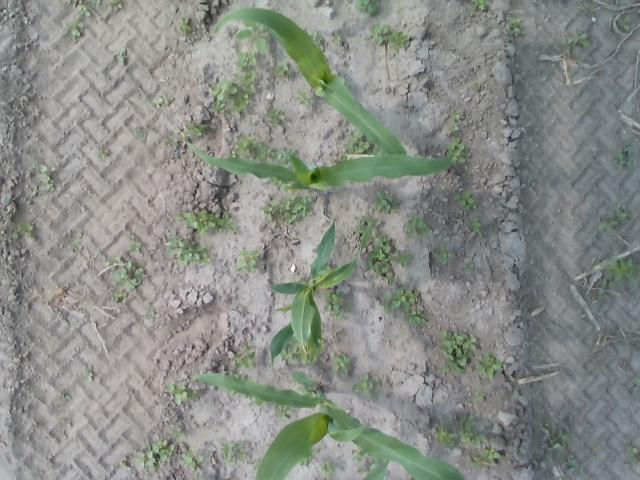Maize: (192, 369, 466, 480), (215, 7, 408, 156), (268, 218, 372, 377), (170, 131, 453, 189)
Weeds: (439, 332, 478, 376), (386, 288, 425, 323), (263, 197, 314, 223), (235, 52, 258, 109), (368, 238, 397, 282), (170, 234, 208, 266), (108, 259, 144, 286), (182, 209, 215, 233), (238, 24, 266, 52), (374, 26, 406, 50), (221, 442, 247, 467), (608, 259, 636, 282), (153, 437, 175, 464), (476, 355, 502, 376), (210, 81, 238, 100), (237, 248, 260, 271), (378, 190, 400, 214), (182, 450, 204, 474), (168, 385, 192, 407), (235, 346, 256, 368), (136, 450, 158, 471), (436, 426, 459, 446), (38, 164, 54, 192), (63, 18, 83, 40), (404, 214, 424, 236), (352, 376, 374, 396), (325, 291, 343, 314), (12, 222, 35, 240), (329, 354, 352, 372), (462, 414, 476, 443), (239, 134, 258, 154), (266, 107, 286, 126), (451, 142, 469, 163), (568, 32, 590, 49), (255, 146, 278, 162), (396, 248, 414, 268), (434, 244, 452, 264), (348, 135, 368, 153), (185, 120, 207, 136), (448, 110, 464, 132), (282, 348, 300, 366), (548, 429, 565, 448), (355, 0, 379, 13), (598, 217, 618, 232), (297, 91, 314, 108), (484, 444, 502, 460), (457, 189, 473, 206), (321, 459, 337, 476), (472, 453, 488, 470), (124, 239, 142, 254), (216, 217, 235, 231), (616, 206, 632, 222), (276, 62, 291, 78), (628, 444, 640, 464), (471, 215, 483, 234), (566, 455, 578, 474), (508, 18, 522, 34), (618, 16, 632, 32), (276, 406, 292, 420), (76, 5, 90, 20), (111, 290, 128, 302), (69, 234, 83, 248), (472, 0, 488, 12), (95, 146, 110, 158), (350, 451, 366, 462), (214, 100, 228, 112), (134, 126, 146, 140), (330, 32, 344, 44), (169, 422, 183, 434), (360, 462, 374, 474), (182, 16, 192, 32), (163, 95, 176, 106), (476, 434, 488, 445), (618, 150, 626, 164), (154, 96, 164, 107), (476, 390, 486, 400), (146, 308, 156, 318), (121, 454, 128, 468)
